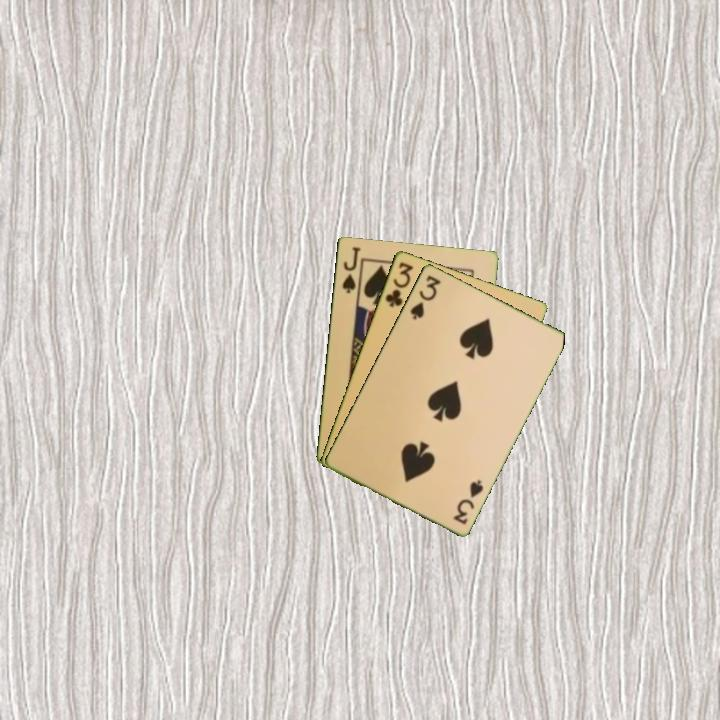3c: (381, 258, 416, 310)
3s: (406, 271, 443, 322), (449, 476, 486, 527)
Js: (339, 243, 363, 296)
